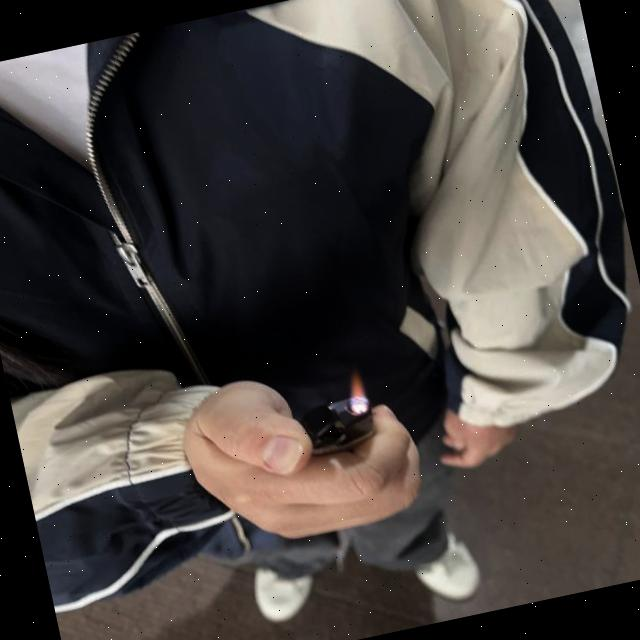fire: (344, 366, 371, 404)
